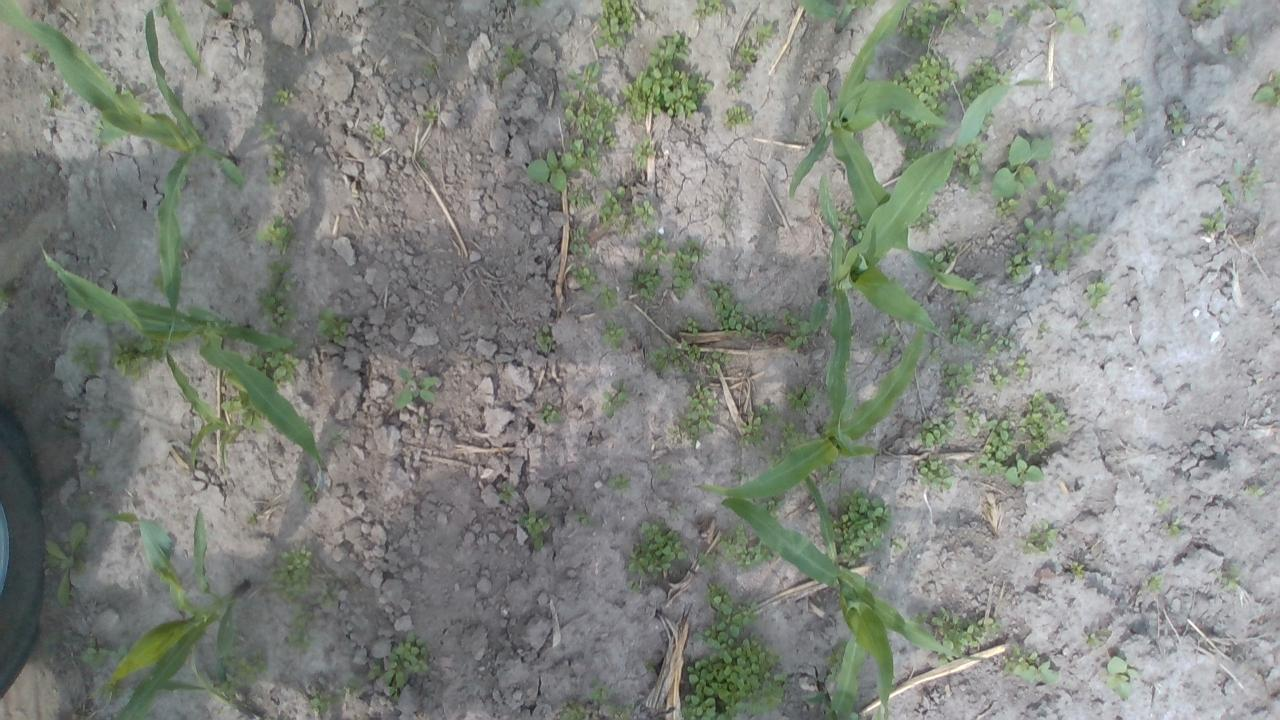Maize: (804, 78, 1045, 456), (0, 0, 245, 356), (35, 242, 326, 479), (721, 474, 984, 720), (786, 0, 986, 294), (699, 323, 926, 503), (92, 507, 250, 720), (157, 339, 251, 474), (157, 0, 230, 74), (799, 679, 859, 720), (795, 0, 870, 32)
Weeds: (677, 632, 784, 720), (622, 30, 712, 122), (559, 61, 624, 180), (690, 584, 761, 664), (828, 486, 891, 566), (886, 49, 958, 118), (626, 520, 690, 592), (368, 632, 432, 704), (43, 520, 91, 608), (990, 134, 1052, 200), (1016, 390, 1068, 454), (254, 259, 296, 337), (108, 330, 166, 386), (960, 55, 1014, 111), (932, 604, 979, 668), (286, 591, 334, 652), (702, 278, 752, 336), (718, 522, 776, 570), (678, 382, 719, 447), (214, 653, 268, 701), (525, 148, 581, 192), (244, 344, 298, 388), (270, 545, 314, 599), (896, 0, 946, 47), (220, 388, 270, 434), (882, 109, 944, 146), (1002, 644, 1058, 684), (592, 0, 636, 49), (952, 137, 988, 194), (647, 340, 704, 376), (670, 238, 701, 298), (1014, 218, 1060, 258), (79, 636, 130, 672), (396, 366, 440, 407), (781, 308, 820, 354), (1104, 655, 1142, 698), (517, 507, 554, 551), (1116, 80, 1146, 134), (254, 214, 296, 251), (1004, 452, 1045, 488), (912, 415, 956, 448), (316, 304, 352, 344), (1020, 520, 1061, 555), (982, 418, 1014, 462), (1050, 0, 1088, 36), (68, 340, 102, 378), (600, 187, 630, 230), (917, 456, 954, 490), (1232, 161, 1262, 202), (737, 412, 768, 450), (493, 47, 526, 82), (630, 266, 663, 301), (746, 490, 786, 518), (1183, 0, 1241, 19), (949, 304, 974, 347), (964, 454, 1008, 478), (778, 421, 812, 452), (942, 360, 976, 390), (1036, 182, 1070, 212), (748, 308, 782, 338), (638, 236, 672, 266), (1252, 71, 1280, 107), (601, 383, 629, 418), (1068, 222, 1097, 255), (306, 691, 338, 719), (570, 262, 598, 294), (1213, 564, 1245, 592), (786, 385, 818, 412), (601, 318, 626, 352), (992, 196, 1024, 222), (632, 136, 656, 170), (630, 198, 659, 226), (255, 114, 282, 144), (568, 225, 592, 257), (1047, 241, 1072, 271), (267, 150, 289, 184), (826, 639, 848, 673), (945, 0, 967, 32), (1085, 280, 1111, 307), (1168, 108, 1194, 135), (1198, 209, 1228, 232), (1071, 119, 1096, 146), (926, 249, 954, 273), (724, 105, 750, 130), (984, 334, 1011, 358), (1006, 253, 1028, 282), (558, 699, 588, 720), (834, 203, 859, 228), (984, 5, 1008, 31), (706, 351, 730, 377), (902, 144, 932, 164), (122, 86, 146, 111), (598, 285, 621, 311), (910, 207, 936, 230), (588, 677, 610, 704), (694, 550, 720, 572), (815, 461, 841, 483), (692, 0, 722, 19), (1226, 30, 1247, 57), (964, 408, 984, 435), (150, 268, 168, 298), (736, 40, 758, 64), (973, 320, 993, 346), (301, 478, 321, 504), (1219, 183, 1237, 211), (847, 222, 871, 243), (534, 325, 552, 352), (979, 616, 1001, 638), (990, 366, 1010, 390), (871, 336, 896, 355), (754, 21, 775, 43), (759, 402, 781, 423), (497, 482, 517, 505), (568, 192, 595, 209), (606, 474, 632, 491), (1144, 573, 1164, 595), (1016, 352, 1031, 381), (271, 88, 293, 107), (541, 402, 560, 423), (1010, 7, 1030, 26), (725, 68, 746, 86), (766, 448, 788, 465), (367, 120, 385, 140), (607, 703, 628, 720), (102, 416, 121, 434), (574, 511, 594, 528), (654, 462, 671, 482), (23, 48, 44, 64), (1070, 560, 1086, 579), (942, 395, 962, 410), (92, 118, 107, 137), (45, 93, 60, 112), (910, 611, 929, 626), (84, 463, 100, 480), (685, 316, 700, 334), (1166, 520, 1181, 538), (1086, 632, 1103, 647), (1026, 0, 1047, 12), (1158, 496, 1171, 515), (156, 0, 168, 19), (927, 346, 942, 361), (0, 286, 9, 311), (516, 0, 544, 8), (1108, 26, 1122, 41), (1244, 486, 1264, 496), (424, 110, 438, 124), (952, 288, 968, 300), (890, 536, 903, 550), (423, 61, 437, 74), (970, 12, 981, 28), (858, 0, 878, 8), (246, 514, 257, 526)
